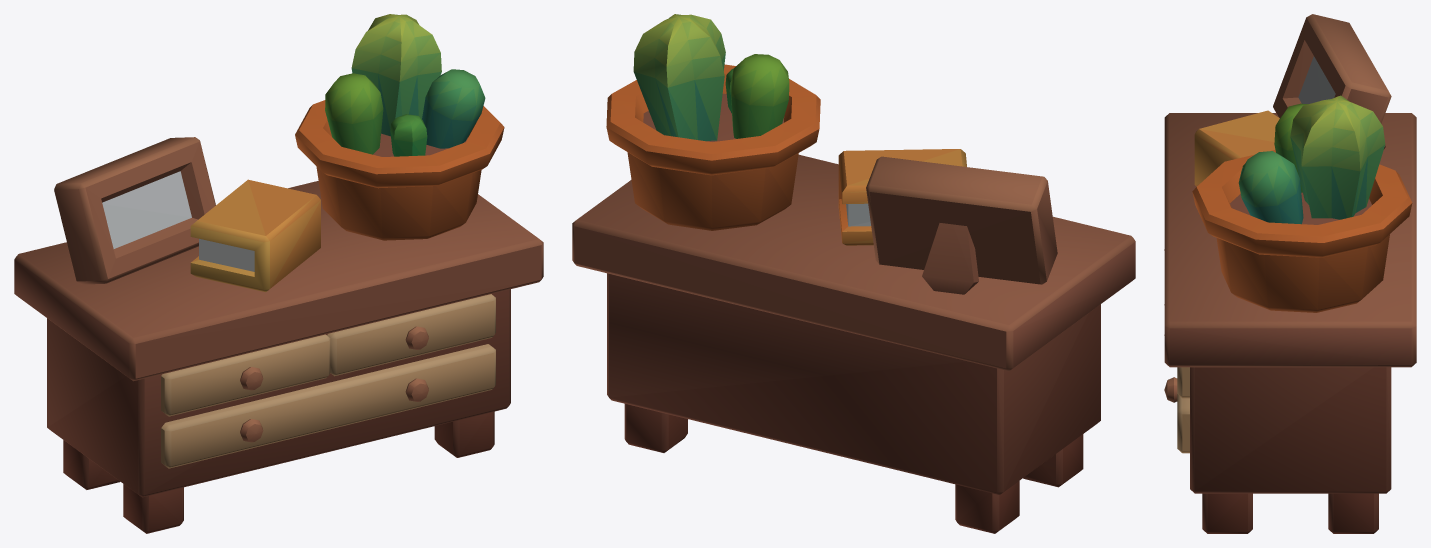
File: kk_furniture_cabinet_medium_decorated.glb
The picture shows the model from 3 angles, left to right: view 1: azimuth 30°, elevation 25°; view 2: azimuth 150°, elevation 25°; view 3: azimuth 270°, elevation 25°; orthographic projection. The views are drawn at different scales.
Visible parts, largest first — view 1: kk_furniture_cabinet_medium_decorated; view 2: kk_furniture_cabinet_medium_decorated; view 3: kk_furniture_cabinet_medium_decorated.
Part boxes in pixels (x1,y1,x2,y2): kk_furniture_cabinet_medium_decorated: [14, 14, 543, 533]; kk_furniture_cabinet_medium_decorated: [572, 14, 1135, 533]; kk_furniture_cabinet_medium_decorated: [1164, 14, 1416, 533].
Bounding box in the file's own units: 2.04 × 1.83 × 1.
